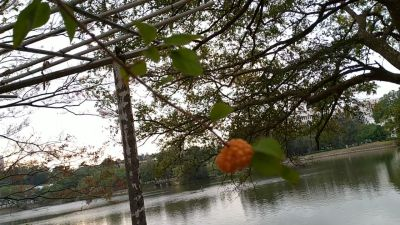eggs: (216, 138, 254, 175)
